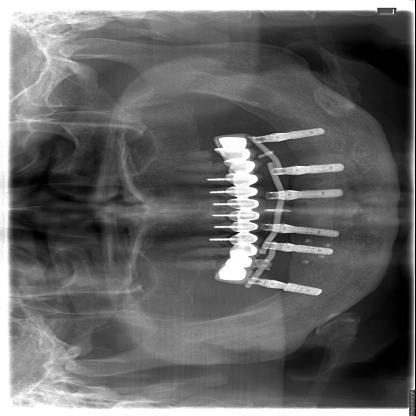ITI: (286, 184, 348, 204), (278, 279, 328, 299), (278, 125, 330, 143), (290, 160, 348, 176), (282, 223, 342, 238), (286, 244, 334, 258)
